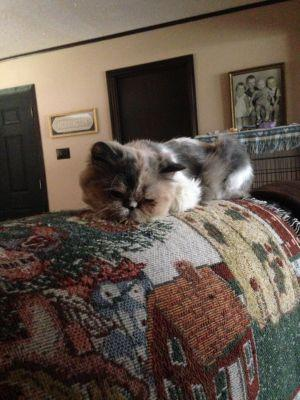persian: (78, 133, 192, 238)
